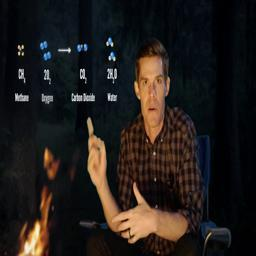fire: (17, 149, 60, 256)
